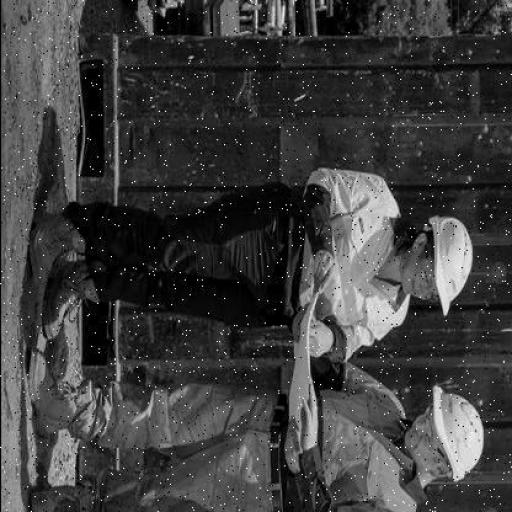person: (20, 162, 490, 370), (13, 342, 488, 512)
safety_shoe: (21, 366, 96, 430), (41, 264, 93, 344), (31, 207, 86, 282), (19, 474, 93, 512)
